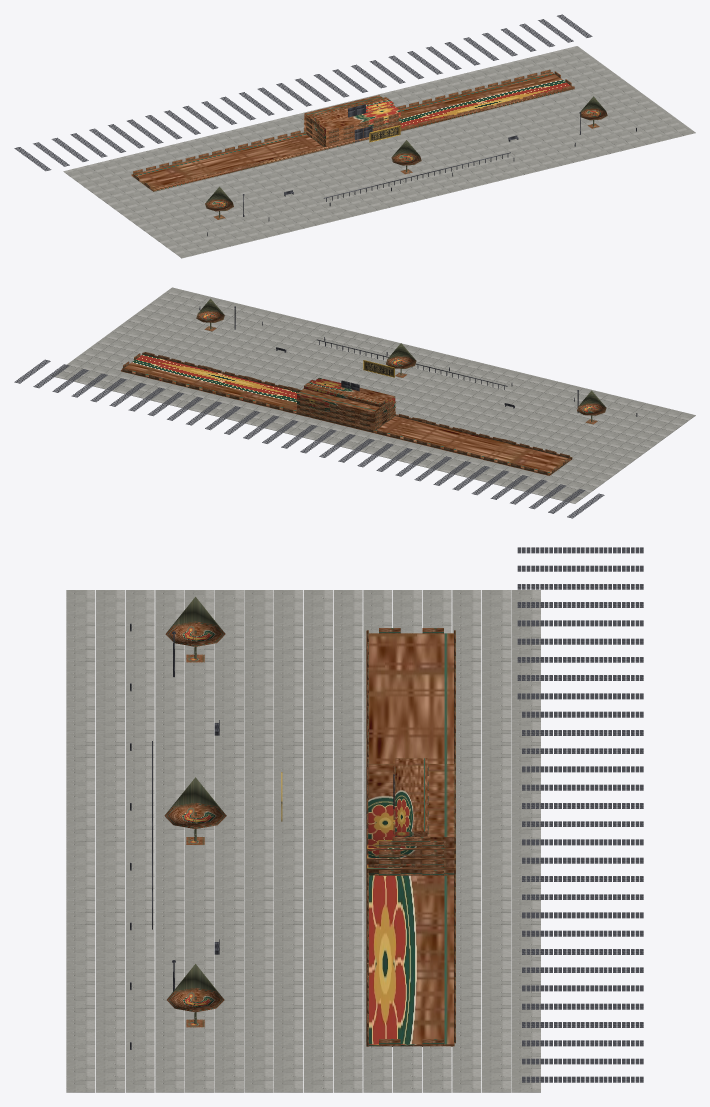
The picture shows the model from 3 angles, top to bottom: view 1: azimuth 30°, elevation 25°; view 2: azimuth 150°, elevation 25°; view 3: azimuth 270°, elevation 25°; orthographic projection. The views are drawn at different scales.
Visible parts, largest first — view 1: 11140_02_04624_042_01__plinth_ground_base, 11140_02_04624_042_02__mass_body_facade, 11140_02_04624_042_03__roof_deck_structure, 11140_02_04624_042_06__landscape_greenery, 11140_02_04624_042_05__door_hardware_iron, 11140_02_04624_042_05__window_sash_glass; view 2: 11140_02_04624_042_01__plinth_ground_base, 11140_02_04624_042_02__mass_body_facade, 11140_02_04624_042_03__roof_deck_structure, 11140_02_04624_042_06__landscape_greenery, 11140_02_04624_042_05__door_hardware_iron; view 3: 11140_02_04624_042_01__plinth_ground_base, 11140_02_04624_042_02__mass_body_facade, 11140_02_04624_042_03__roof_deck_structure, 11140_02_04624_042_06__landscape_greenery.
Boxes of the visible parts, box(x1,y1,x2,y2) form: 11140_02_04624_042_01__plinth_ground_base: box(63, 46, 695, 258); 11140_02_04624_042_02__mass_body_facade: box(131, 69, 574, 191); 11140_02_04624_042_03__roof_deck_structure: box(14, 14, 592, 171); 11140_02_04624_042_06__landscape_greenery: box(205, 96, 607, 219); 11140_02_04624_042_05__door_hardware_iron: box(207, 104, 636, 236); 11140_02_04624_042_05__window_sash_glass: box(169, 89, 557, 185); 11140_02_04624_042_01__plinth_ground_base: box(53, 287, 695, 503); 11140_02_04624_042_02__mass_body_facade: box(120, 352, 572, 475); 11140_02_04624_042_03__roof_deck_structure: box(14, 359, 604, 518); 11140_02_04624_042_06__landscape_greenery: box(196, 298, 606, 424); 11140_02_04624_042_05__door_hardware_iron: box(199, 306, 637, 416); 11140_02_04624_042_01__plinth_ground_base: box(66, 590, 540, 1092); 11140_02_04624_042_02__mass_body_facade: box(366, 628, 455, 1046); 11140_02_04624_042_03__roof_deck_structure: box(517, 547, 643, 1082); 11140_02_04624_042_06__landscape_greenery: box(164, 597, 226, 1027).
Size of the model in its own units: 117 by 6.6 by 53.48.
7 materials, 7 textured.
